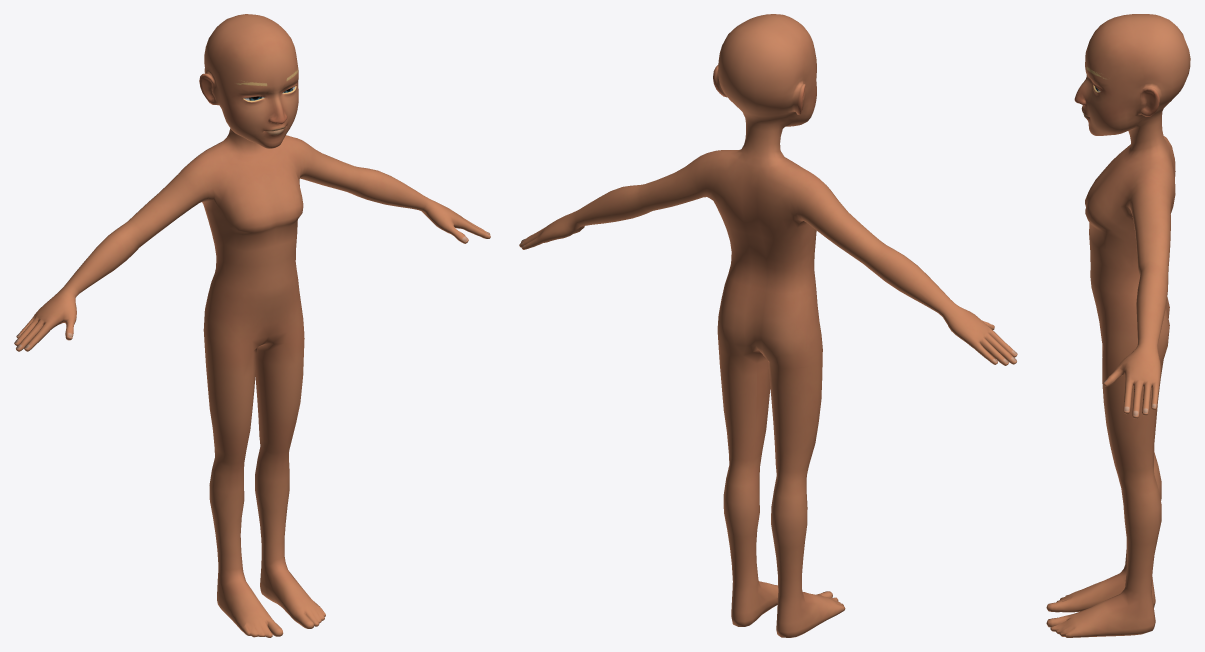
The model's file is frame_0035.glb.
3 renders of one model, left to right at view 1: azimuth 30°, elevation 25°; view 2: azimuth 150°, elevation 25°; view 3: azimuth 270°, elevation 25°, orthographic. The views are drawn at different scales.
Visible parts, largest first — view 1: frame_0035_head_geo; view 2: frame_0035_head_geo; view 3: frame_0035_head_geo.
Part boxes in pixels (left/top/right/bottom): frame_0035_head_geo: left=14, top=14, right=490, bottom=637; frame_0035_head_geo: left=519, top=14, right=1017, bottom=637; frame_0035_head_geo: left=1046, top=14, right=1190, bottom=637.
Size of the model in its own units: 1.28 by 1.5 by 0.3253.
Materials: 3 (3 with a texture image).
